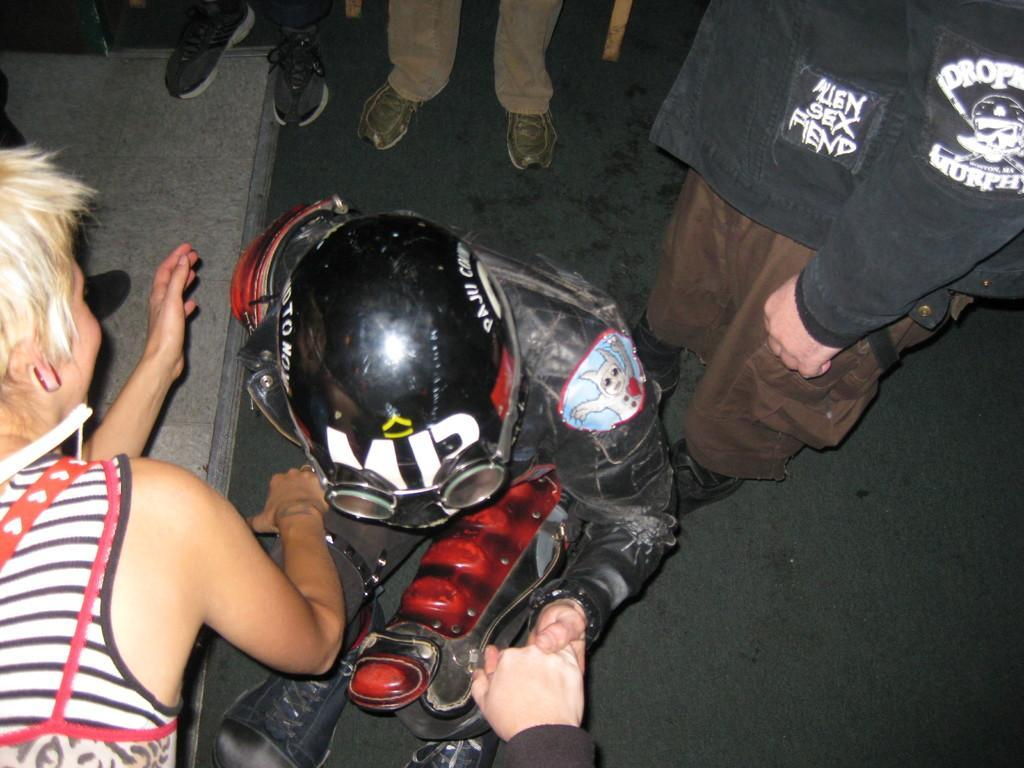helmet: (273, 207, 523, 532)
